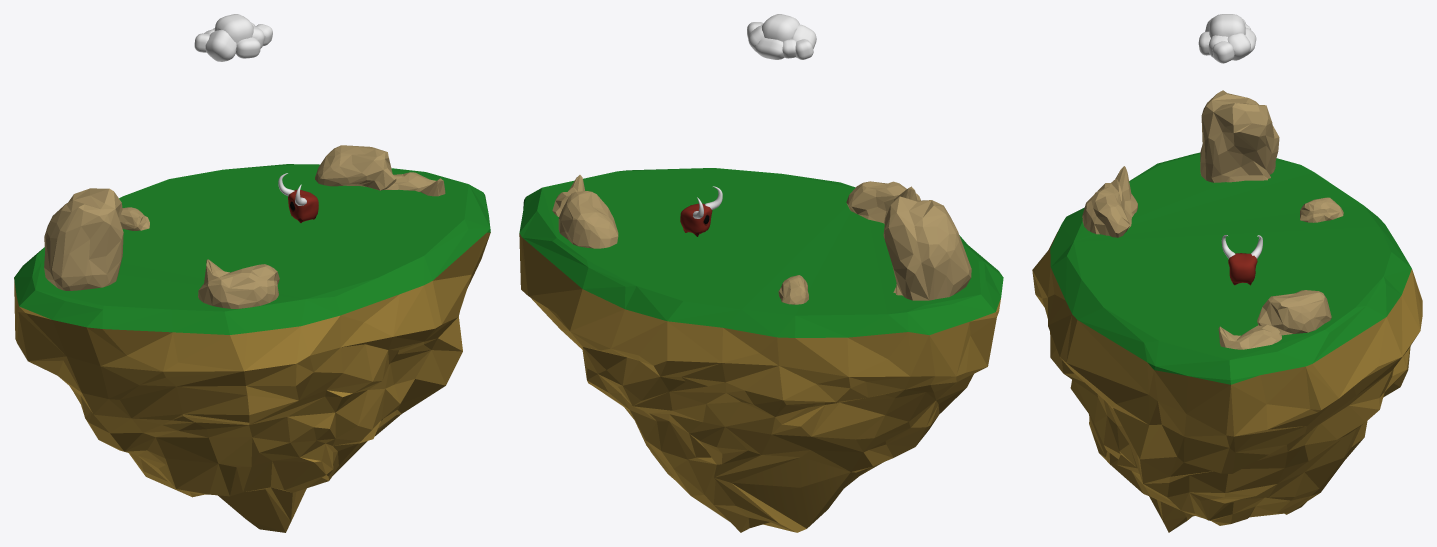
The model's file is Island.fbx.
3 renders of one model, left to right at view 1: azimuth 30°, elevation 25°; view 2: azimuth 150°, elevation 25°; view 3: azimuth 270°, elevation 25°, orthographic.
Visible parts, largest first — view 1: polySurface1, pPlatonic2, pPlatonic1, pPlatonic4, pCube10, Monster_4, pPlatonic5, pPlatonic3; view 2: polySurface1, pPlatonic2, pPlatonic4, pCube10, pPlatonic1, Monster_4, pPlatonic3; view 3: polySurface1, pPlatonic2, pPlatonic4, pPlatonic1, pCube10, pPlatonic5, Monster_4, pPlatonic3.
Boxes of the visible parts, box(x1,y1,x2,y2) form: polySurface1: box(14, 164, 490, 532); pPlatonic2: box(44, 188, 123, 290); pPlatonic1: box(198, 259, 279, 308); pPlatonic4: box(315, 145, 396, 190); pCube10: box(194, 14, 272, 61); Monster_4: box(278, 173, 318, 222); pPlatonic5: box(384, 172, 445, 196); pPlatonic3: box(119, 207, 149, 230); polySurface1: box(519, 168, 1003, 532); pPlatonic2: box(883, 196, 971, 300); pPlatonic4: box(558, 191, 618, 248); pCube10: box(747, 14, 816, 59); pPlatonic1: box(846, 181, 920, 223); Monster_4: box(680, 186, 722, 236); pPlatonic3: box(778, 275, 808, 304); polySurface1: box(1032, 152, 1422, 532); pPlatonic2: box(1200, 90, 1279, 182); pPlatonic4: box(1257, 290, 1331, 335); pPlatonic1: box(1082, 166, 1137, 237); pCube10: box(1198, 14, 1256, 63); pPlatonic5: box(1218, 324, 1281, 349); Monster_4: box(1221, 235, 1262, 285); pPlatonic3: box(1300, 197, 1343, 222).
Bounding box in the file's own units: 45.56 × 46.52 × 32.61.
